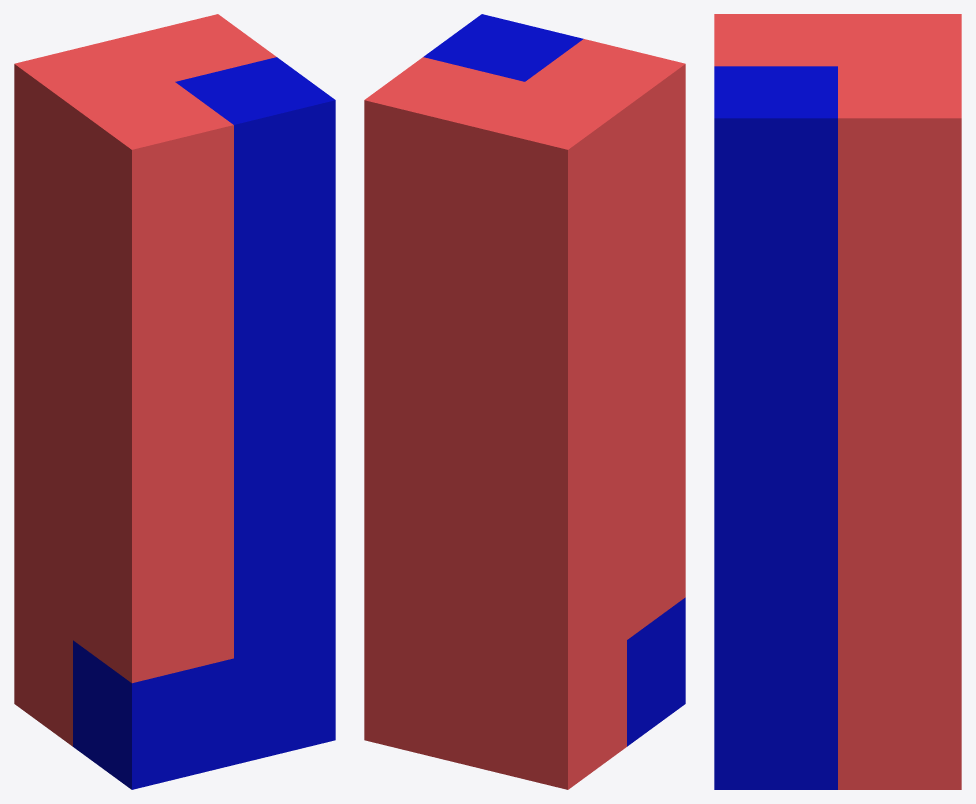
The model's file is LLegTemplate.obj.
3 views of the same model, side by side, from view 1: azimuth 30°, elevation 25°; view 2: azimuth 150°, elevation 25°; view 3: azimuth 270°, elevation 25° (orthographic). The views are drawn at different scales.
Size of the model in its own units: 0.2 by 0.6 by 0.2.
1 material, 1 textured.
